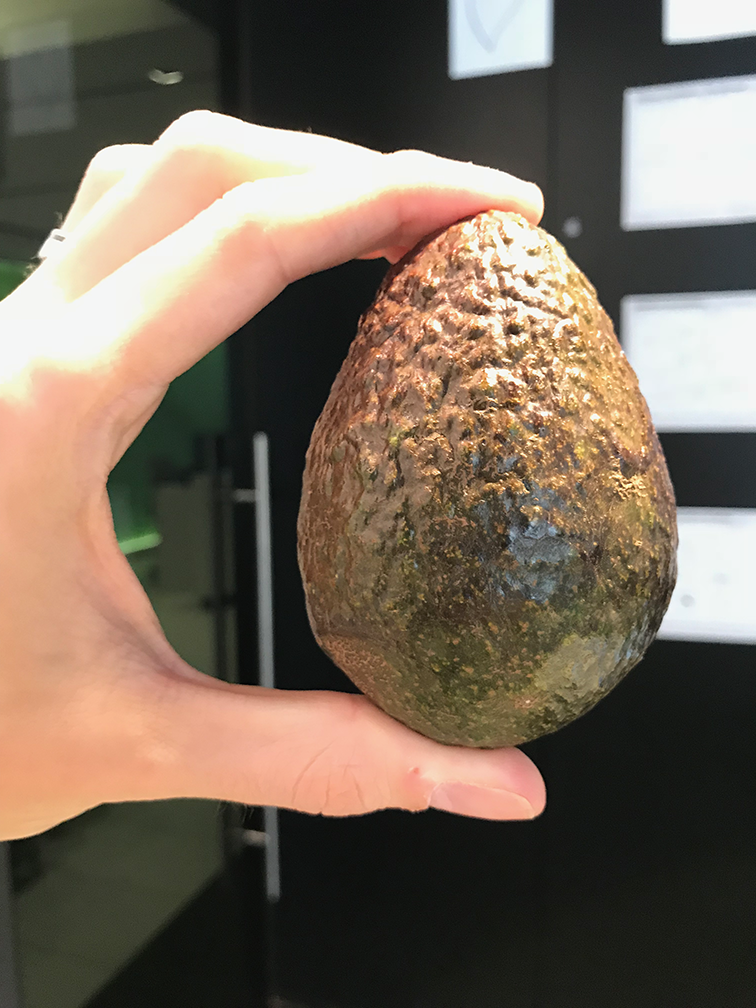avocado: (289, 186, 686, 780)
